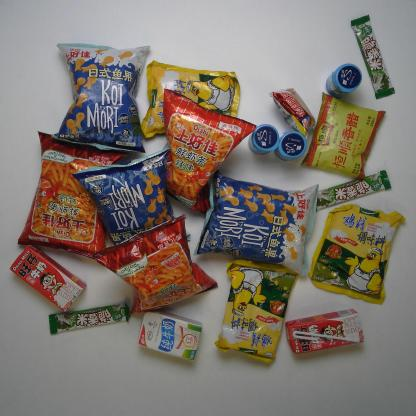Chocolate: (350, 14, 396, 100), (315, 169, 392, 213), (48, 302, 131, 335)
Dessert: (268, 87, 316, 140)
Gum: (325, 63, 363, 98), (274, 129, 308, 162), (248, 124, 280, 155)
Milk: (9, 242, 88, 314), (285, 308, 366, 355), (138, 310, 203, 361)
Puffed Food: (16, 130, 130, 260), (192, 171, 320, 277), (92, 213, 218, 315), (162, 88, 258, 215), (72, 147, 192, 247), (50, 40, 151, 154)
Seasoner: (307, 203, 406, 306), (213, 258, 300, 365), (140, 60, 241, 138), (300, 91, 387, 180)
